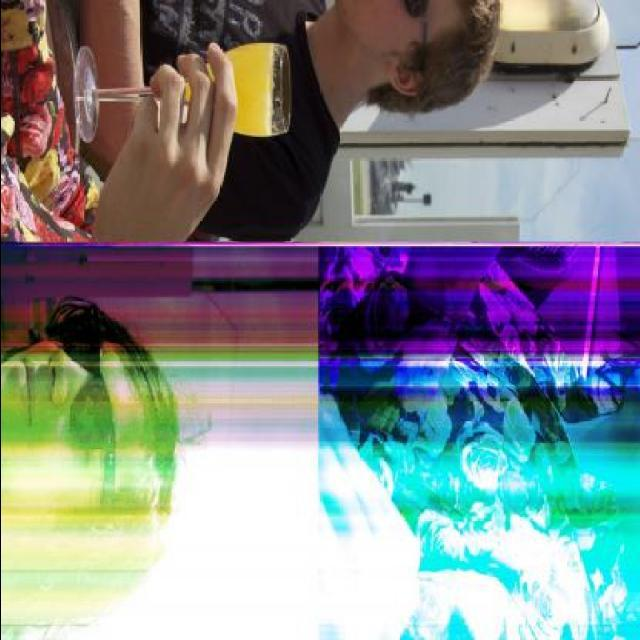Juice: (177, 30, 280, 134)
